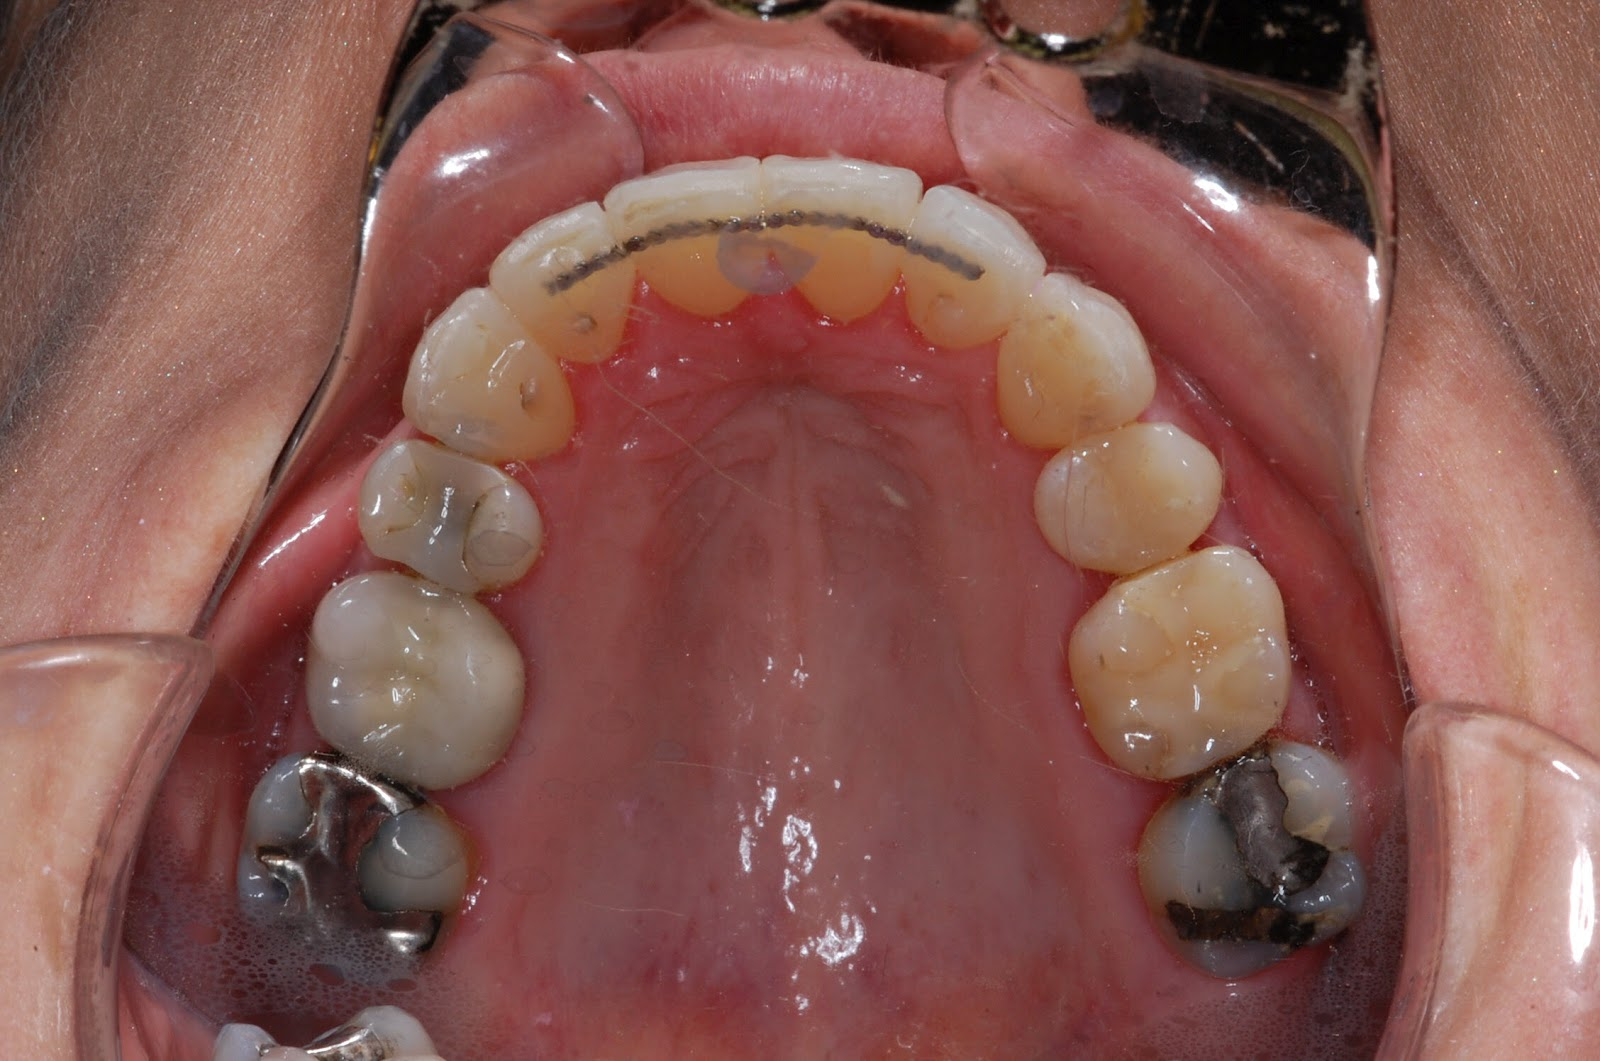UL1BC_healthy: (1033, 417, 1226, 580)
UL1M_decay: (1135, 738, 1366, 982)
UL2BC_healthy: (1065, 544, 1292, 786)
ULCI_decay: (758, 144, 917, 333)
ULC_healthy: (992, 270, 1157, 449)
ULLI_decay: (902, 182, 1050, 355)
UR1BC_decay: (364, 439, 546, 606)
UR1M_decay: (234, 747, 475, 1001)
UR2BC_healthy: (306, 570, 534, 802)
URCI_decay: (632, 143, 760, 324)
URC_decay: (403, 292, 593, 472)
URLI_decay: (490, 180, 647, 375)
